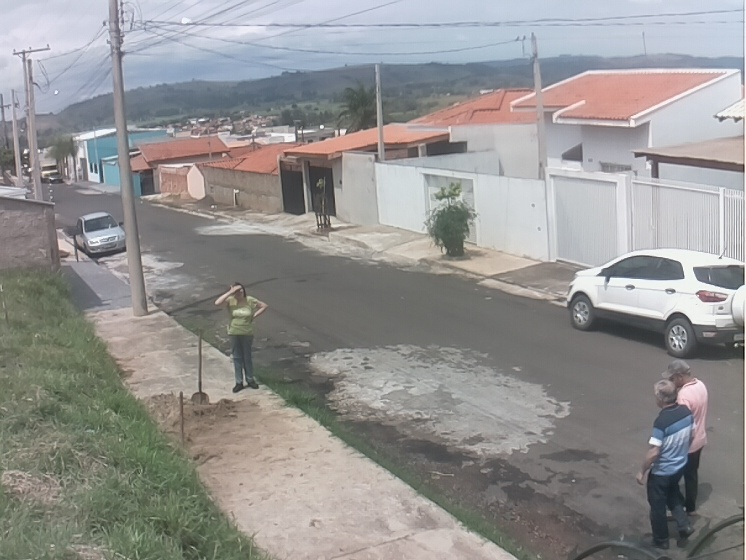person: (636, 380, 695, 548), (658, 359, 709, 515), (213, 281, 270, 392)
